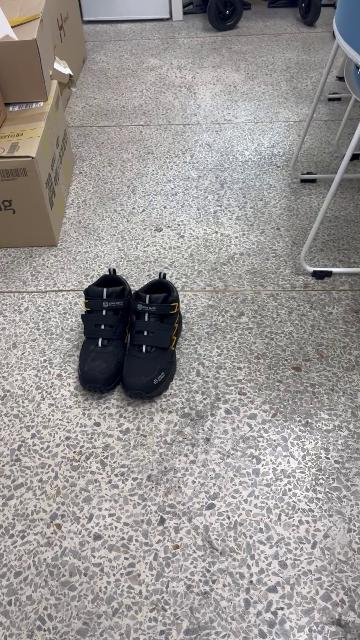shoe_worn: (124, 273, 184, 401), (78, 268, 130, 397)
